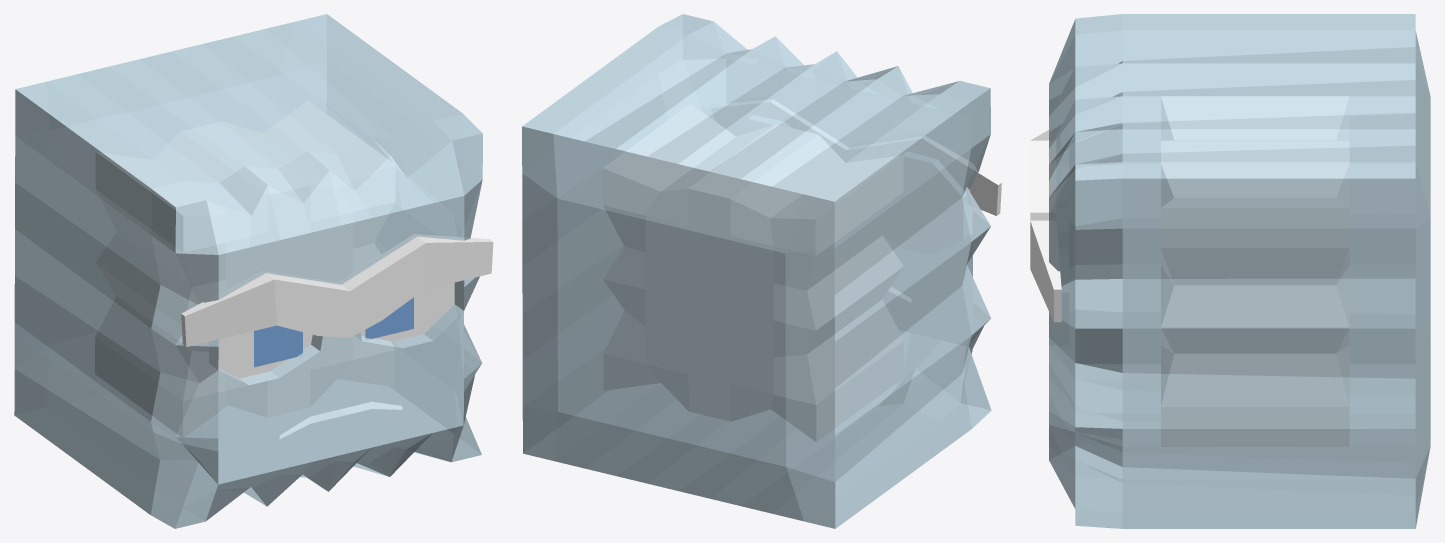
File: Cubo.fbx
3 views of the same model, side by side, from view 1: azimuth 30°, elevation 25°; view 2: azimuth 150°, elevation 25°; view 3: azimuth 270°, elevation 25° (orthographic). The views are drawn at different scales.
Parts seen in each view (by area): view 1: Cube; view 2: Cube; view 3: Cube.
Boxes of the visible parts, <box> form: Cube: <box>14,14,493,528</box>; Cube: <box>522,14,1001,528</box>; Cube: <box>1030,14,1430,528</box>.
Size of the model in its own units: 220 by 220 by 227.
